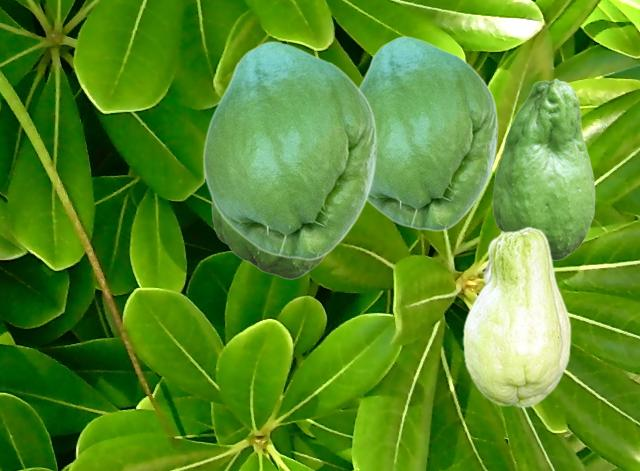sayote: (202, 41, 376, 260), (359, 36, 497, 231), (462, 226, 570, 407), (492, 78, 594, 259), (211, 201, 324, 278)
